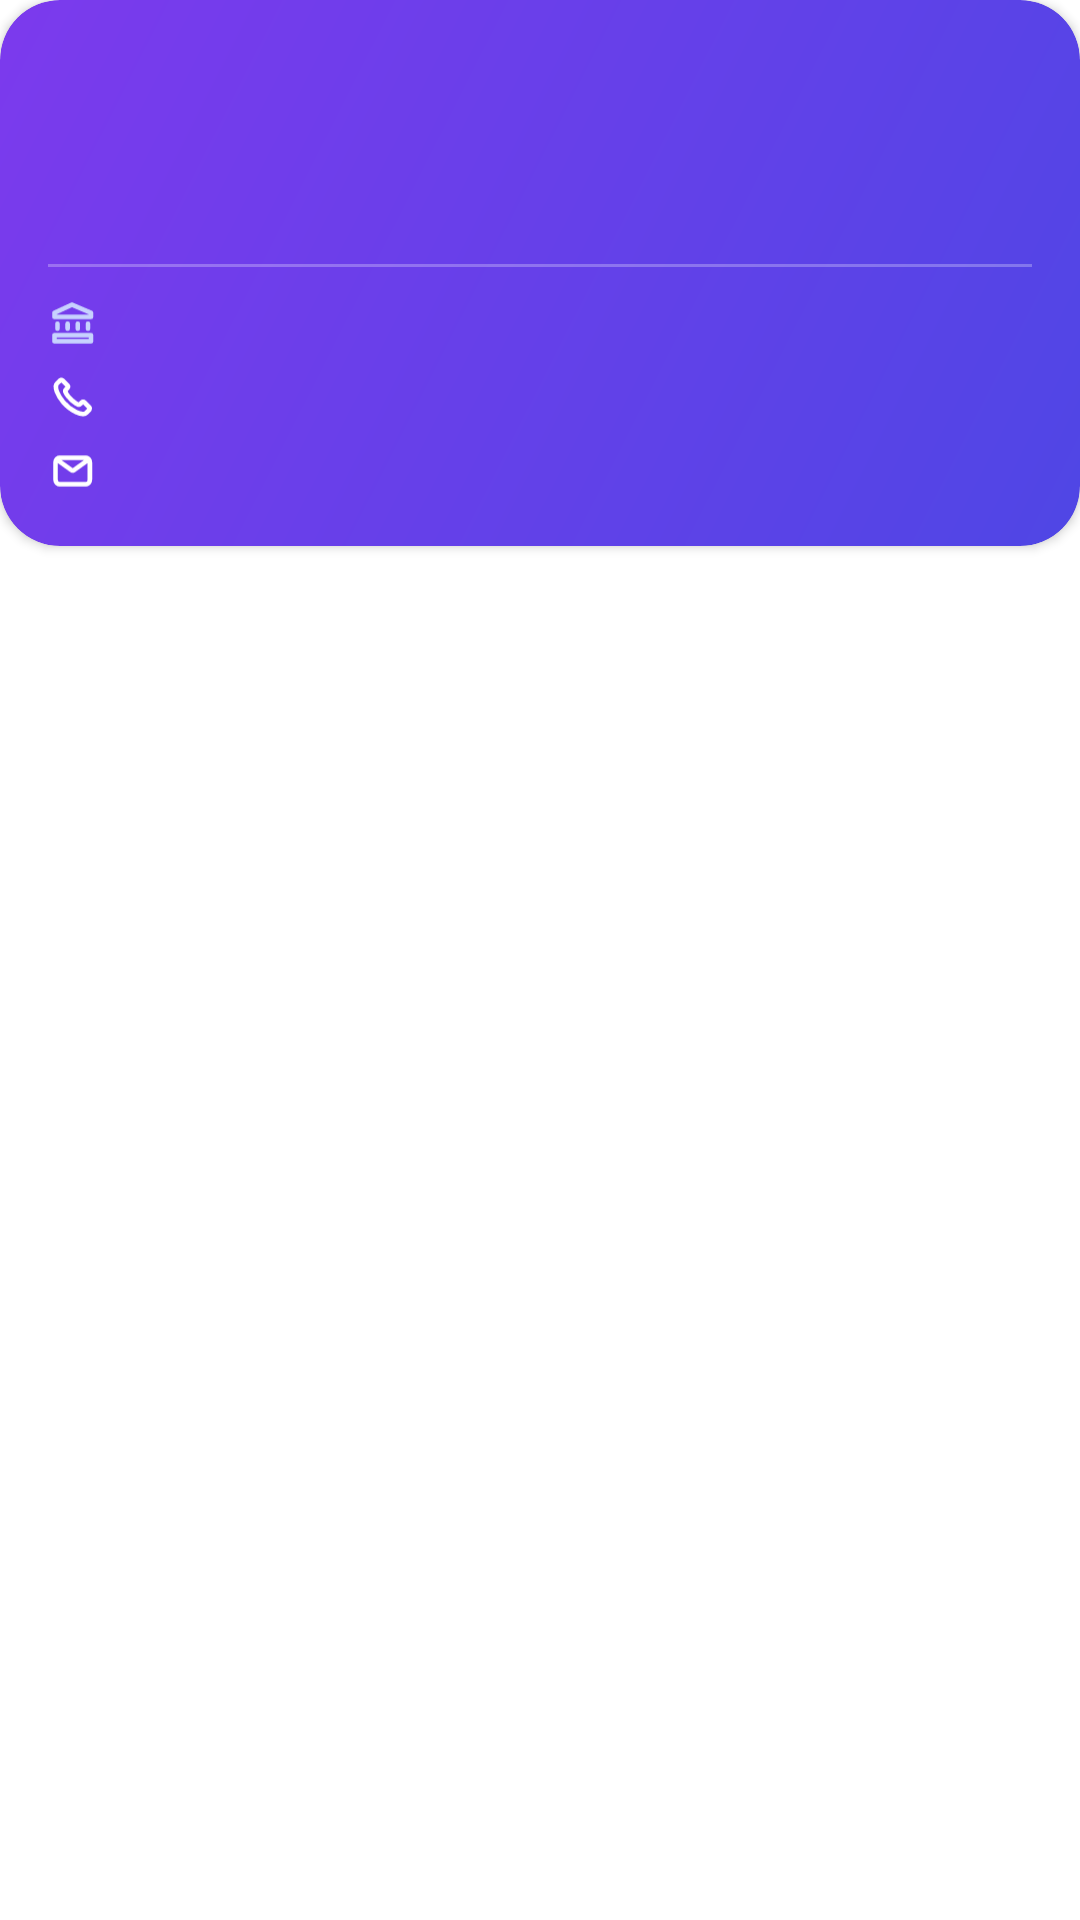

Icon bounding boxes for this 1080 x 1920 phone screenshot, format (x1, y1, x2, y2):
bank: (52, 302, 94, 344)
email: (53, 455, 93, 487)
phone: (53, 377, 92, 417)
